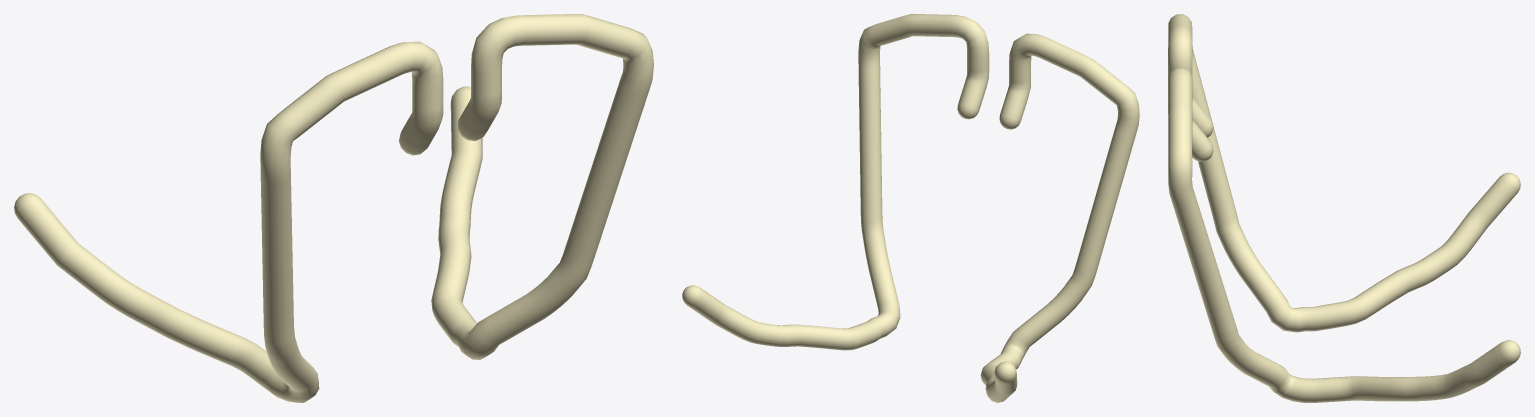
Rendered from submandibular_duct_s123.glb.
3 views of the same model, side by side, from view 1: azimuth 30°, elevation 25°; view 2: azimuth 150°, elevation 25°; view 3: azimuth 270°, elevation 25° (orthographic). The views are drawn at different scales.
Parts seen in each view (by area): view 1: Submandibular duct.r, Submandibular duct.l; view 2: Submandibular duct.l, Submandibular duct.r; view 3: Submandibular duct.l, Submandibular duct.r.
Boxes of the visible parts, x1,y1,x2,y2 form: Submandibular duct.r: [14, 41, 443, 402]; Submandibular duct.l: [431, 14, 653, 359]; Submandibular duct.l: [682, 14, 989, 350]; Submandibular duct.r: [980, 33, 1139, 402]; Submandibular duct.l: [1168, 66, 1520, 402]; Submandibular duct.r: [1168, 14, 1520, 332].
Size of the model in its own units: 0.0396 by 0.0328 by 0.0332.
